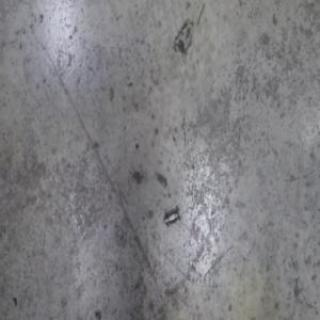Bolttrack_idkeyframe: (162, 203, 179, 226)
